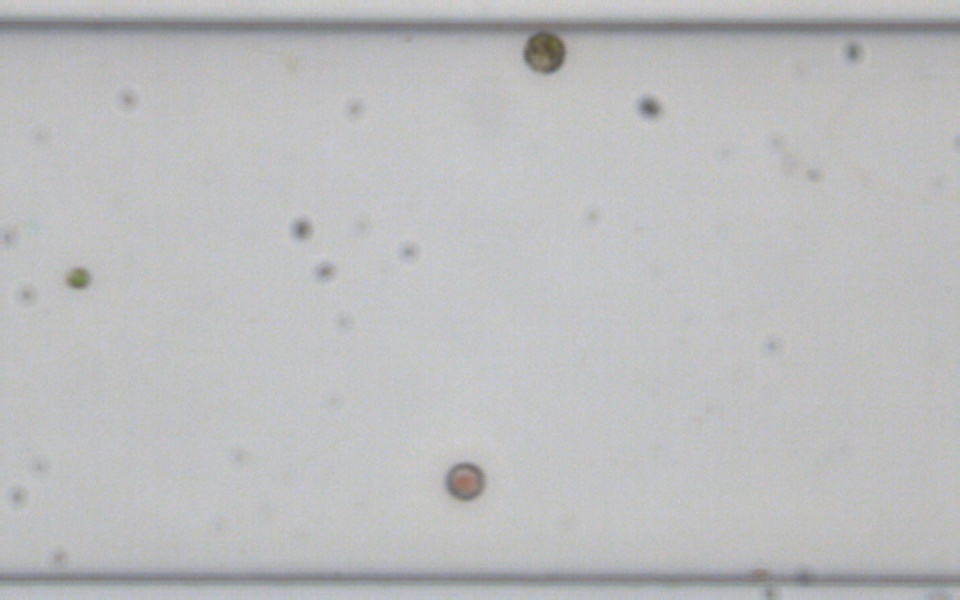Chlorella: (64, 264, 91, 290)
Effrenium: (521, 30, 567, 75)
Porphyridium: (442, 461, 484, 502)
